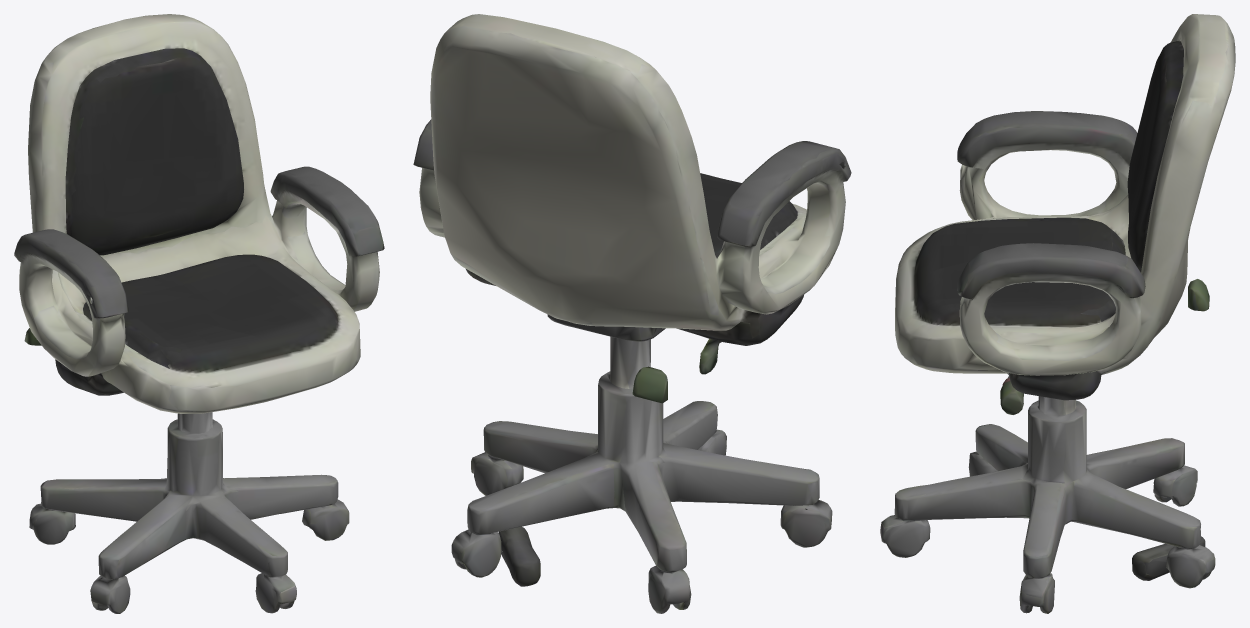
File: chair.glb
The picture shows the model from 3 angles, left to right: view 1: azimuth 30°, elevation 25°; view 2: azimuth 150°, elevation 25°; view 3: azimuth 270°, elevation 25°; orthographic projection. The views are drawn at different scales.
Parts seen in each view (by area): view 1: geometry_0; view 2: geometry_0; view 3: geometry_0.
Part boxes in pixels (x1,y1,x2,y2): geometry_0: (14, 14, 384, 613); geometry_0: (413, 14, 851, 613); geometry_0: (880, 14, 1235, 613).
Size of the model in its own units: 0.6293 by 1 by 0.6342.
1 material, 1 textured.
